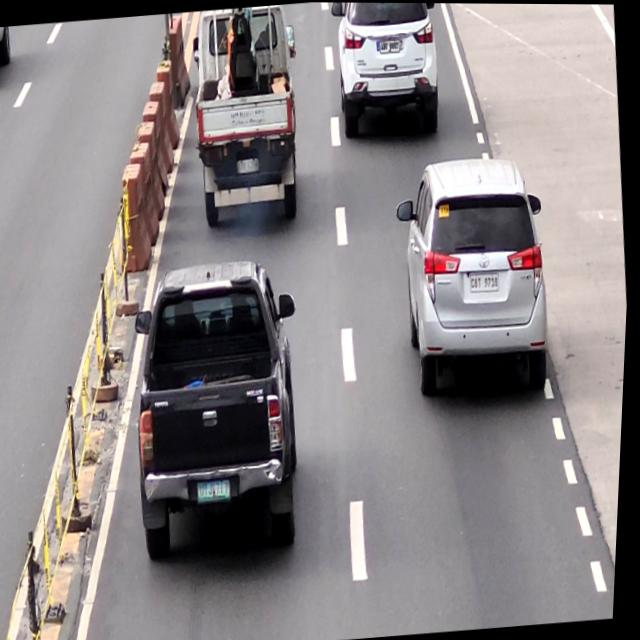Car: (124, 256, 322, 563), (387, 152, 562, 405), (324, 2, 447, 141)
License-Plate: (199, 477, 236, 503), (470, 270, 502, 294), (235, 156, 261, 174), (378, 36, 401, 53)
Truck: (184, 2, 312, 227)
